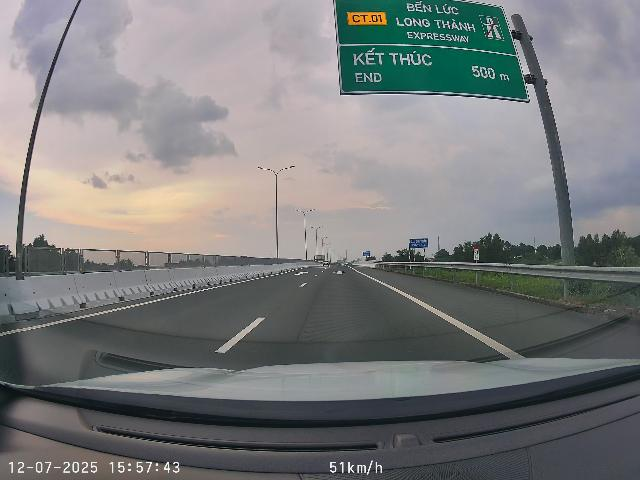438-ket-thuc-duong-cao-toc: (479, 14, 505, 41)
